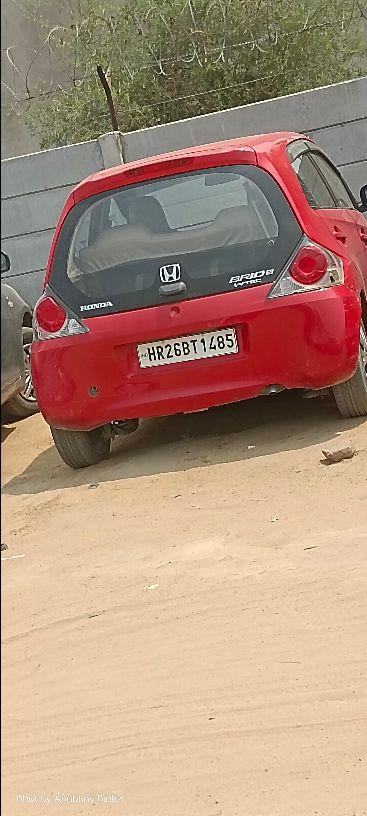license_plate: (135, 324, 239, 368)
